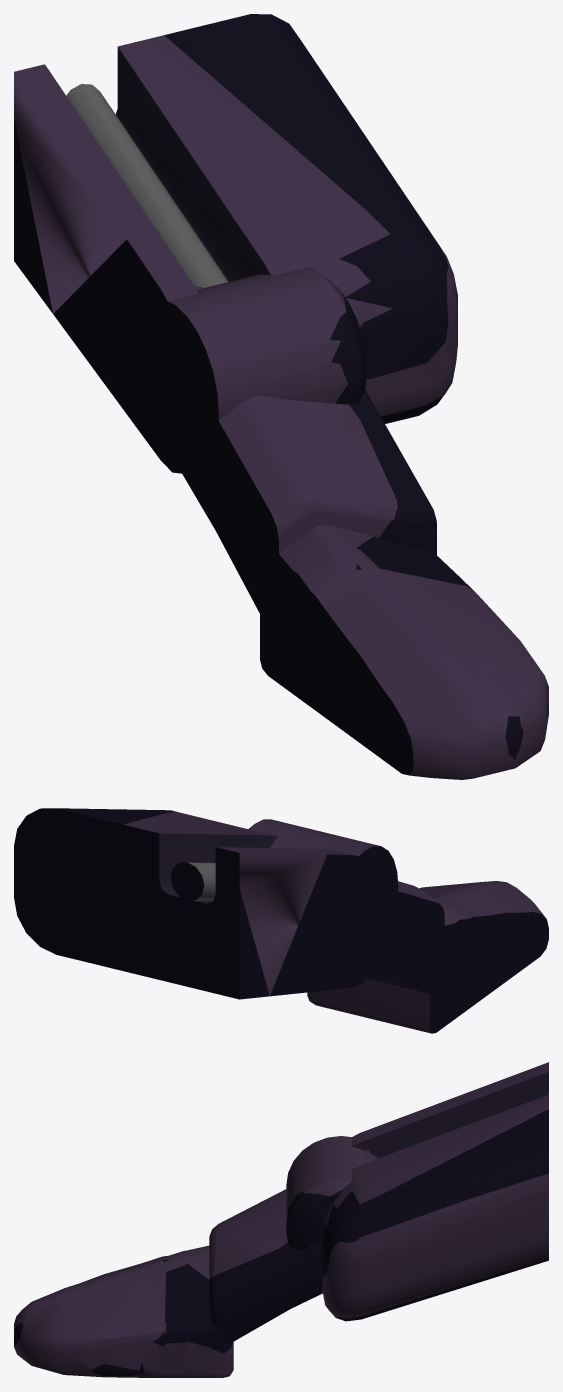
The model's file is ice_globe_br_wreck.glb.
3 renders of one model, top to bottom at view 1: azimuth 30°, elevation 25°; view 2: azimuth 150°, elevation 25°; view 3: azimuth 270°, elevation 25°, orthographic. The views are drawn at different scales.
Parts seen in each view (by area): view 1: thigh_r.001, foot_r.001, shin_r.001, knee_r.001, thigh_rod_r.001; view 2: thigh_r.001, foot_r.001, shin_r.001, knee_r.001, thigh_rod_r.001; view 3: thigh_r.001, foot_r.001, shin_r.001, knee_r.001.
Part boxes in pixels (x1,y1,x2,y2): thigh_r.001: (14, 14, 457, 473); foot_r.001: (260, 525, 548, 779); shin_r.001: (152, 286, 436, 642); knee_r.001: (132, 267, 366, 467); thigh_rod_r.001: (66, 84, 228, 287); thigh_r.001: (14, 808, 376, 999); foot_r.001: (307, 881, 548, 1033); shin_r.001: (347, 878, 444, 997); knee_r.001: (248, 819, 398, 975); thigh_rod_r.001: (170, 862, 215, 900); thigh_r.001: (322, 1062, 548, 1321); foot_r.001: (14, 1245, 233, 1377); shin_r.001: (209, 1149, 370, 1343); knee_r.001: (286, 1136, 377, 1250).
Size of the model in its own units: 8 by 10.97 by 19.85.
